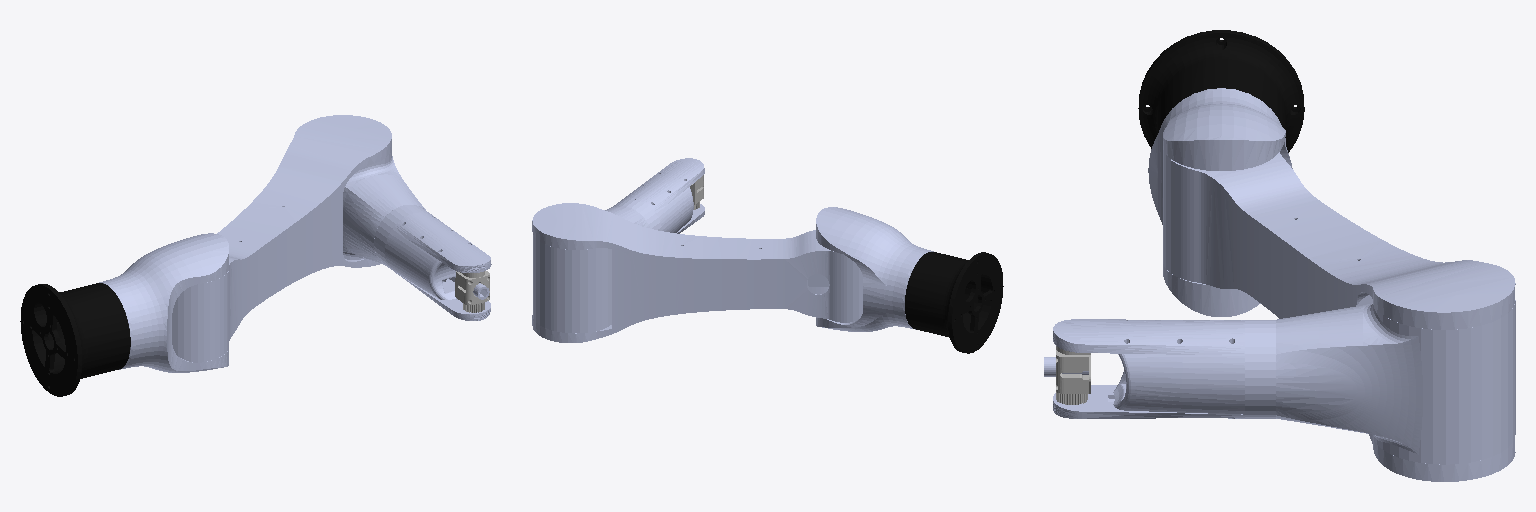
The robot description file, URDF, robot "bartender_description":
<?xml version="1.0" encoding="utf-8"?>
<!-- This URDF was automatically created by SolidWorks to URDF Exporter! Originally created by [author] ([email redacted]) 
     Commit Version: 1.5.1-0-g916b5db  Build Version: 1.5.7152.31018
     For more information, please see http://wiki.ros.org/sw_urdf_exporter -->
<robot
  name="bartender_description">
  <link
    name="base_link">
    <inertial>
      <origin
        xyz="-0.0609843868522775 -0.000348754231501491 -0.000443834914845564"
        rpy="0 0 0" />
      <mass
        value="0.676504739832433" />
      <inertia
        ixx="0.00251563159843823"
        ixy="-4.10339231925769E-06"
        ixz="-5.22187544994779E-06"
        iyy="0.00187014587164591"
        iyz="1.77192420719245E-05"
        izz="0.00187878058701035" />
    </inertial>
    <visual>
      <origin
        xyz="0 0 0"
        rpy="0 0 0" />
      <geometry>
        <mesh
          filename="package://bartender_description/meshes/base_link.STL" />
      </geometry>
      <material
        name="">
        <color
          rgba="0.101960784313725 0.101960784313725 0.101960784313725 1" />
      </material>
    </visual>
    <collision>
      <origin
        xyz="0 0 0"
        rpy="0 0 0" />
      <geometry>
        <mesh
          filename="package://bartender_description/meshes/base_link.STL" />
      </geometry>
    </collision>
  </link>
  <link
    name="Axis_1_link">
    <inertial>
      <origin
        xyz="0.0729560782852224 0.00082145663795552 0.00365068847641203"
        rpy="0 0 0" />
      <mass
        value="1.82885153997862" />
      <inertia
        ixx="0.00583759098719345"
        ixy="-2.38375261062292E-05"
        ixz="-0.00185877754846389"
        iyy="0.00733296734166156"
        iyz="7.78779279141757E-07"
        izz="0.00567092540646294" />
    </inertial>
    <visual>
      <origin
        xyz="0 0 0"
        rpy="0 0 0" />
      <geometry>
        <mesh
          filename="package://bartender_description/meshes/Axis_1_link.STL" />
      </geometry>
      <material
        name="">
        <color
          rgba="0.792156862745098 0.819607843137255 0.933333333333333 1" />
      </material>
    </visual>
    <collision>
      <origin
        xyz="0 0 0"
        rpy="0 0 0" />
      <geometry>
        <mesh
          filename="package://bartender_description/meshes/Axis_1_link.STL" />
      </geometry>
    </collision>
  </link>
  <joint
    name="Axis_1_joint"
    type="revolute">
    <origin
      xyz="0 0 0"
      rpy="0 0 0" />
    <parent
      link="base_link" />
    <child
      link="Axis_1_link" />
    <axis
      xyz="1 0 0" />
    <limit
      lower="-3.14"
      upper="3.14"
      effort="0"
      velocity="0" />
  </joint>
  <link
    name="Axis_2_link">
    <inertial>
      <origin
        xyz="-0.000820402232070361 0.0709889462648658 -0.0801008440347226"
        rpy="0 0 0" />
      <mass
        value="0.759061020793129" />
      <inertia
        ixx="0.00191469729323514"
        ixy="1.33484797139316E-07"
        ixz="5.2513920355149E-06"
        iyy="0.00151285567633713"
        iyz="-1.37236304033981E-06"
        izz="0.00174858862744118" />
    </inertial>
    <visual>
      <origin
        xyz="0 0 0"
        rpy="0 0 0" />
      <geometry>
        <mesh
          filename="package://bartender_description/meshes/Axis_2_link.STL" />
      </geometry>
      <material
        name="">
        <color
          rgba="0.792156862745098 0.819607843137255 0.933333333333333 1" />
      </material>
    </visual>
    <collision>
      <origin
        xyz="0 0 0"
        rpy="0 0 0" />
      <geometry>
        <mesh
          filename="package://bartender_description/meshes/Axis_2_link.STL" />
      </geometry>
    </collision>
  </link>
  <joint
    name="Axis_2_joint"
    type="revolute">
    <origin
      xyz="0.137795000103731 0 -0.0646429999999996"
      rpy="1.5707963267949 0 -1.04721351667053" />
    <parent
      link="Axis_1_link" />
    <child
      link="Axis_2_link" />
    <axis
      xyz="0 -1 0" />
    <limit
      lower="-0.69813"
      upper="1.7453"
      effort="0"
      velocity="0" />
  </joint>
  <link
    name="Axis_3_link">
    <inertial>
      <origin
        xyz="0.00283138679401818 -0.064135102771337 -0.0449191066131345"
        rpy="0 0 0" />
      <mass
        value="3.93214824777397" />
      <inertia
        ixx="0.0107226479079192"
        ixy="5.57815363377064E-09"
        ixz="-8.8193686837861E-05"
        iyy="0.00908669621568845"
        iyz="-3.47553481805894E-09"
        izz="0.010668866355472" />
    </inertial>
    <visual>
      <origin
        xyz="0 0 0"
        rpy="0 0 0" />
      <geometry>
        <mesh
          filename="package://bartender_description/meshes/Axis_3_link.STL" />
      </geometry>
      <material
        name="">
        <color
          rgba="0.792156862745098 0.819607843137255 0.933333333333333 1" />
      </material>
    </visual>
    <collision>
      <origin
        xyz="0 0 0"
        rpy="0 0 0" />
      <geometry>
        <mesh
          filename="package://bartender_description/meshes/Axis_3_link.STL" />
      </geometry>
    </collision>
  </link>
  <joint
    name="Axis_3_joint"
    type="revolute">
    <origin
      xyz="0 0 -0.457236661597999"
      rpy="-3.14159265358979 1.02839101554935 0" />
    <parent
      link="Axis_2_link" />
    <child
      link="Axis_3_link" />
    <axis
      xyz="0 1 0" />
    <limit
      lower="-0.87267"
      upper="0.17453"
      effort="0"
      velocity="0" />
  </joint>
  <link
    name="Axis_4_link">
    <inertial>
      <origin
        xyz="-0.0006976248893516 3.7447942324853E-07 0.0675175256535027"
        rpy="0 0 0" />
      <mass
        value="0.856489560610893" />
      <inertia
        ixx="0.00206818926397165"
        ixy="1.1985081554126E-08"
        ixz="8.66736183072786E-06"
        iyy="0.00177128098918653"
        iyz="-3.46924973761132E-09"
        izz="0.000721510758935695" />
    </inertial>
    <visual>
      <origin
        xyz="0 0 0"
        rpy="0 0 0" />
      <geometry>
        <mesh
          filename="package://bartender_description/meshes/Axis_4_link.STL" />
      </geometry>
      <material
        name="">
        <color
          rgba="0.792156862745098 0.819607843137255 0.933333333333333 1" />
      </material>
    </visual>
    <collision>
      <origin
        xyz="0 0 0"
        rpy="0 0 0" />
      <geometry>
        <mesh
          filename="package://bartender_description/meshes/Axis_4_link.STL" />
      </geometry>
    </collision>
  </link>
  <joint
    name="Axis_4_joint"
    type="revolute">
    <origin
      xyz="0.00833174747644083 -0.0641349999999993 -0.2046669392351"
      rpy="-3.1227709049678 -0.000168316999353158 -1.56185493455129" />
    <parent
      link="Axis_3_link" />
    <child
      link="Axis_4_link" />
    <axis
      xyz="0 0 -1" />
    <limit
      lower="-3.14"
      upper="3.14"
      effort="0"
      velocity="0" />
  </joint>
  <link
    name="Axis_5_link">
    <inertial>
      <origin
        xyz="0.218657056548553 -2.50836127830834E-05 -0.00161150647560715"
        rpy="0 0 0" />
      <mass
        value="0.0617503556433187" />
      <inertia
        ixx="1.46766827950709E-05"
        ixy="-6.82357221265635E-09"
        ixz="2.1755578356245E-07"
        iyy="1.87257088507101E-05"
        iyz="-6.03273354138711E-08"
        izz="2.11045050684811E-05" />
    </inertial>
    <visual>
      <origin
        xyz="0 0 0"
        rpy="0 0 0" />
      <geometry>
        <mesh
          filename="package://bartender_description/meshes/Axis_5_link.STL" />
      </geometry>
      <material
        name="">
        <color
          rgba="0.752941176470588 0.752941176470588 0.752941176470588 1" />
      </material>
    </visual>
    <collision>
      <origin
        xyz="0 0 0"
        rpy="0 0 0" />
      <geometry>
        <mesh
          filename="package://bartender_description/meshes/Axis_5_link.STL" />
      </geometry>
    </collision>
  </link>
  <joint
    name="Axis_5_joint"
    type="revolute">
    <origin
      xyz="-0.217825000000417 0 0.17718532"
      rpy="0 0 0" />
    <parent
      link="Axis_4_link" />
    <child
      link="Axis_5_link" />
    <axis
      xyz="1 0 0" />
    <limit
      lower="-1.5707"
      upper="1.5707"
      effort="0"
      velocity="0" />
  </joint>
  <link
    name="Axis_6_link">
    <inertial>
      <origin
        xyz="1.11022302462516E-16 -2.22044604925031E-16 0.0236537500000001"
        rpy="0 0 0" />
      <mass
        value="0.00888214913786918" />
      <inertia
        ixx="1.99606171787005E-06"
        ixy="-4.2351647362715E-22"
        ixz="-3.09696421339854E-21"
        iyy="1.99606171787004E-06"
        iyz="7.30565917006834E-21"
        izz="6.79082464223824E-07" />
    </inertial>
    <visual>
      <origin
        xyz="0 0 0"
        rpy="0 0 0" />
      <geometry>
        <mesh
          filename="package://bartender_description/meshes/Axis_6_link.STL" />
      </geometry>
      <material
        name="">
        <color
          rgba="0.792156862745098 0.819607843137255 0.933333333333333 1" />
      </material>
    </visual>
    <collision>
      <origin
        xyz="0 0 0"
        rpy="0 0 0" />
      <geometry>
        <mesh
          filename="package://bartender_description/meshes/Axis_6_link.STL" />
      </geometry>
    </collision>
  </link>
  <joint
    name="Axis_6_joint"
    type="revolute">
    <origin
      xyz="0.2205 0 0.0283074999999999"
      rpy="3.14159265358979 0 -0.137857887972684" />
    <parent
      link="Axis_5_link" />
    <child
      link="Axis_6_link" />
    <axis
      xyz="0 0 -1" />
    <limit
      lower="-3.14"
      upper="3.14"
      effort="0"
      velocity="0" />
  </joint>
</robot>

--- Facts derived from the render (not from the file) ---
Views: 3 orthographic renders of the robot side by side, from view 1: azimuth 30°, elevation 25°; view 2: azimuth 150°, elevation 25°; view 3: azimuth 270°, elevation 25°.
Robot: bartender_description — 7 links, 6 joints (6 revolute); root link base_link; default pose: all joints at 0.
Visible links, largest first — view 1: Axis_2_link, base_link, Axis_1_link, Axis_4_link, Axis_3_link, Axis_5_link; view 2: Axis_2_link, base_link, Axis_1_link, Axis_3_link, Axis_4_link; view 3: Axis_2_link, Axis_3_link, Axis_4_link, Axis_1_link, base_link, Axis_5_link.
Boxes of the visible links, left/top/right/bottom form: Axis_2_link: left=172, top=115, right=391, bottom=362; base_link: left=20, top=283, right=130, bottom=396; Axis_1_link: left=99, top=233, right=228, bottom=372; Axis_4_link: left=385, top=212, right=491, bottom=320; Axis_3_link: left=343, top=150, right=431, bottom=268; Axis_5_link: left=455, top=271, right=489, bottom=312; Axis_2_link: left=532, top=203, right=862, bottom=342; base_link: left=905, top=252, right=1003, bottom=353; Axis_1_link: left=816, top=207, right=933, bottom=331; Axis_3_link: left=533, top=199, right=661, bottom=332; Axis_4_link: left=621, top=158, right=704, bottom=233; Axis_2_link: left=1163, top=150, right=1515, bottom=481; Axis_3_link: left=1245, top=300, right=1515, bottom=464; Axis_4_link: left=1053, top=319, right=1244, bottom=418; Axis_1_link: left=1148, top=88, right=1292, bottom=316; base_link: left=1138, top=30, right=1304, bottom=152; Axis_5_link: left=1056, top=346, right=1090, bottom=404.
Size in the robot's own frame: 0.7084 by 0.4833 by 0.2013 metres.
Meshes: 7 distinct files referenced, 7 mesh visuals loaded (7 binary STL).
